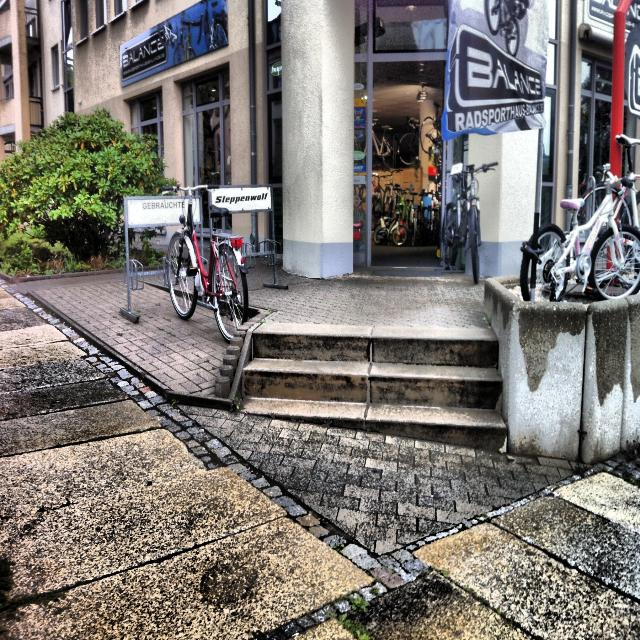escada: (237, 321, 507, 455)
